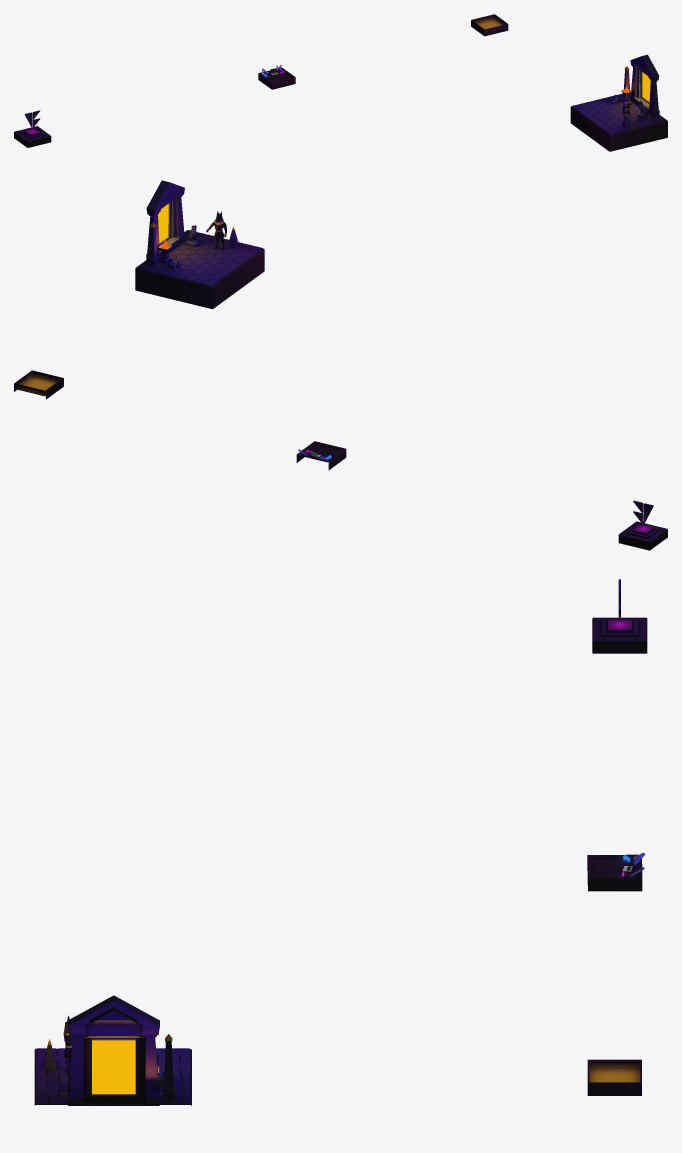
The model's file is Web4.glb.
The picture shows the model from 3 angles, top to bottom: view 1: azimuth 30°, elevation 25°; view 2: azimuth 150°, elevation 25°; view 3: azimuth 270°, elevation 25°; orthographic projection. The views are drawn at different scales.
Visible parts, largest first — view 1: Cube; view 2: Cube; view 3: Cube.
Boxes of the visible parts, <box> form: Cube: <box>14,14,667,151</box>; Cube: <box>14,180,667,550</box>; Cube: <box>34,617,647,1105</box>.
Size of the model in its own units: 77.74 by 10.17 by 41.13.
39 materials, 14 textured.
